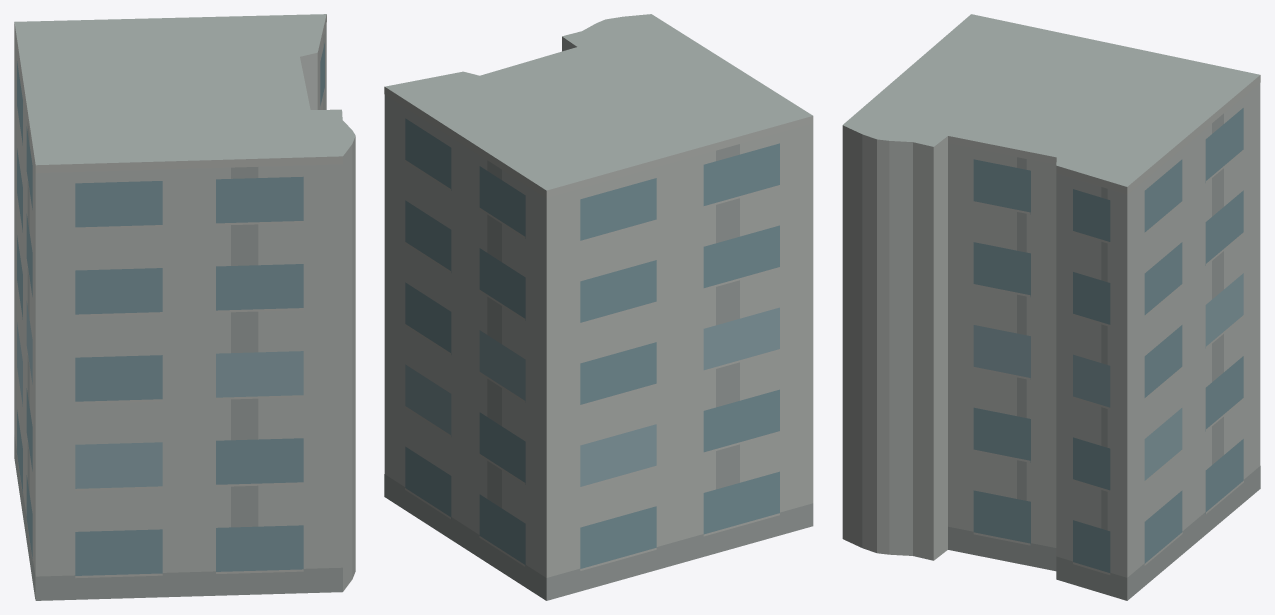
File: survey-upis-32726273.glb
The picture shows the model from 3 angles, left to right: view 1: azimuth 30°, elevation 25°; view 2: azimuth 150°, elevation 25°; view 3: azimuth 270°, elevation 25°; orthographic projection. The views are drawn at different scales.
Parts seen in each view (by area): view 1: survey-upis-32726273.tmp; view 2: survey-upis-32726273.tmp; view 3: survey-upis-32726273.tmp.
Boxes of the visible parts, x1,y1,x2,y2 form: survey-upis-32726273.tmp: (14,14,355,600); survey-upis-32726273.tmp: (384,14,813,600); survey-upis-32726273.tmp: (842,14,1260,600).
Size of the model in its own units: 11.84 by 13.2 by 12.09.
